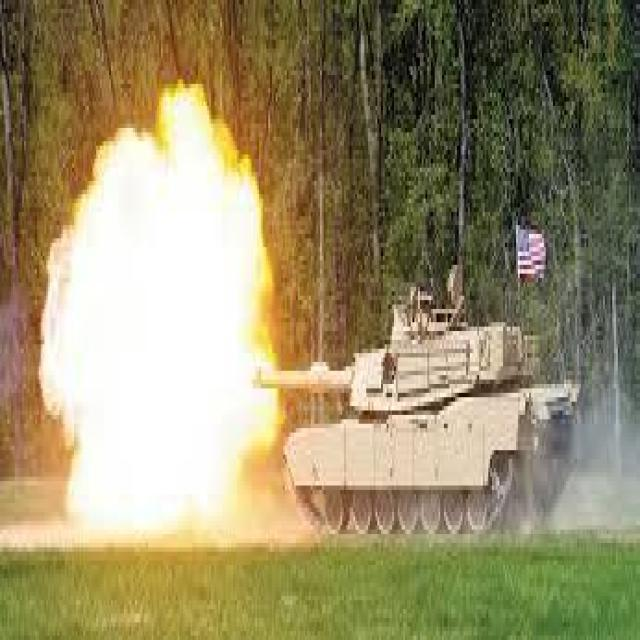MIL_MBT: (286, 265, 567, 525)
